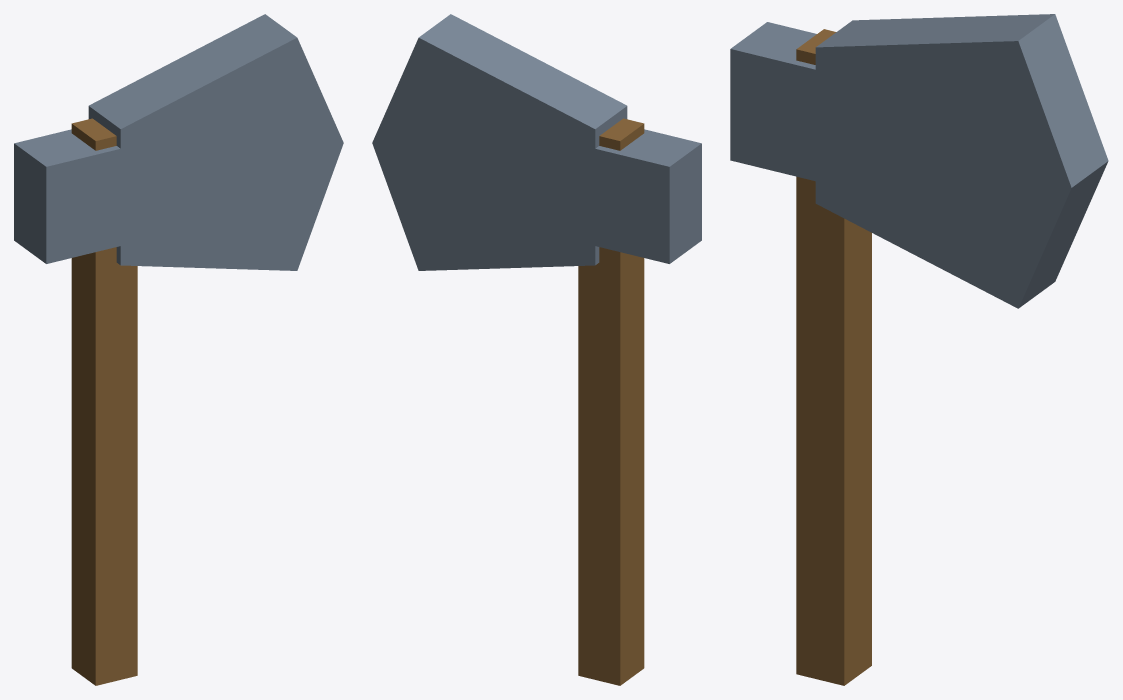
The model's file is axe_iron.fbx.
The picture shows the model from 3 angles, left to right: view 1: azimuth 30°, elevation 25°; view 2: azimuth 150°, elevation 25°; view 3: azimuth 330°, elevation 25°; orthographic projection. The views are drawn at different scales.
Visible parts, largest first — view 1: axe_iron; view 2: axe_iron; view 3: axe_iron.
Part boxes in pixels (x1=…): axe_iron: x1=14, y1=14, x2=343, y2=685; axe_iron: x1=372, y1=14, x2=701, y2=685; axe_iron: x1=730, y1=14, x2=1108, y2=685.
Size of the model in its own units: 0.96 by 1.86 by 0.18.
